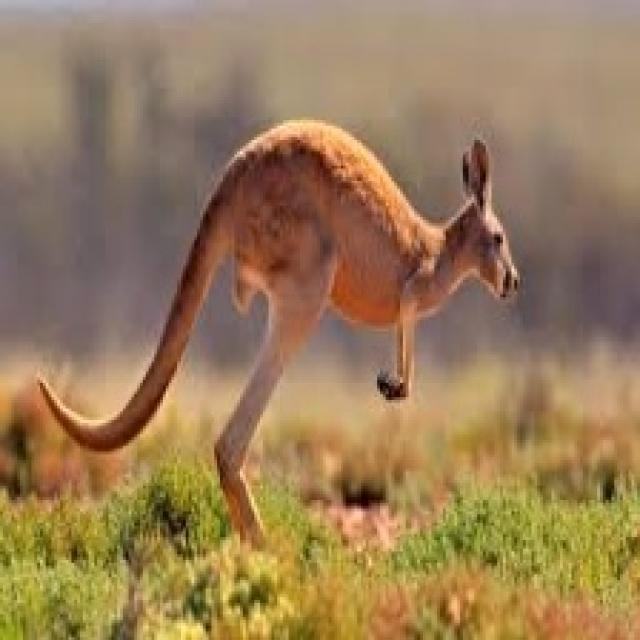animal: (21, 96, 549, 564)
